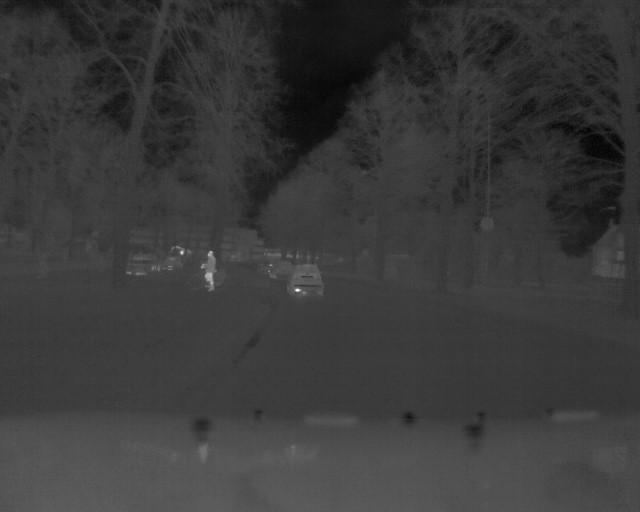car: (285, 261, 328, 296), (124, 248, 161, 277), (164, 254, 183, 272)
person: (198, 246, 217, 293)
